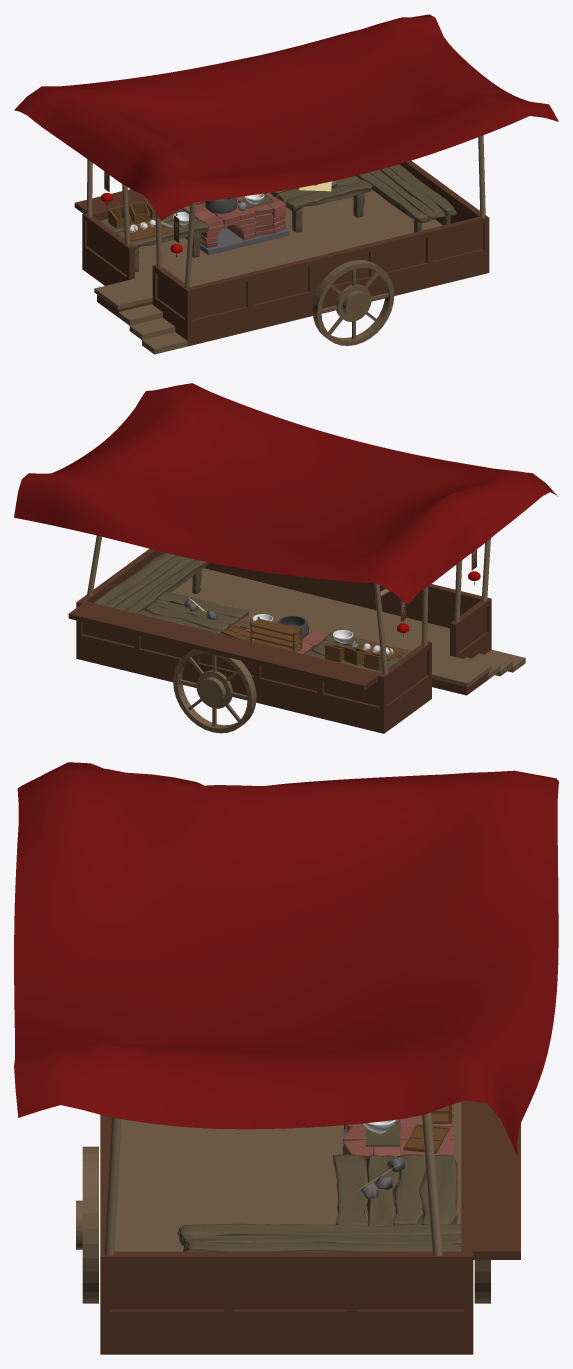
The model's file is EstacionesCocinaV1.fbx.
3 renders of one model, top to bottom at view 1: azimuth 30°, elevation 25°; view 2: azimuth 150°, elevation 25°; view 3: azimuth 270°, elevation 25°, orthographic. The views are drawn at different scales.
Visible parts, largest first — view 1: Lona, Carrito, Piso, Ruedas, BaseEscalera, MesaEmplatado, ESTUFAV2.002, PatasMesaEx, Mesa, PISO, Soporte4, Soporte5 (+1 smaller); view 2: Lona, Carrito, Piso, Ruedas, MesaEmplatado, BaseEscalera, PatasMesaEx, ESPECIAS1, Mesa, Soporte1, ESTUFAV2.002; view 3: Lona, Carrito, Piso, MesaEmplatado, PatasMesaEx, Ruedas, ESTUFAV2.002, Soporte6, Soporte5, ESPECIAS2.
Part boxes in pixels (<box>): Lona: <box>14,14,558,220</box>; Carrito: <box>74,160,489,346</box>; Piso: <box>135,189,442,290</box>; Ruedas: <box>312,260,394,345</box>; BaseEscalera: <box>94,278,187,354</box>; MesaEmplatado: <box>356,164,456,232</box>; ESTUFAV2.002: <box>186,192,286,247</box>; PatasMesaEx: <box>270,176,372,232</box>; Mesa: <box>100,209,208,249</box>; PISO: <box>184,228,289,255</box>; Soporte4: <box>184,202,195,288</box>; Soporte5: <box>478,135,485,217</box>; Lona: <box>14,383,557,604</box>; Carrito: <box>68,548,491,733</box>; Piso: <box>170,568,449,668</box>; Ruedas: <box>173,649,256,733</box>; MesaEmplatado: <box>94,552,208,613</box>; BaseEscalera: <box>432,649,525,695</box>; PatasMesaEx: <box>136,592,248,633</box>; ESPECIAS1: <box>250,616,302,652</box>; Mesa: <box>303,632,411,673</box>; Soporte1: <box>374,583,388,674</box>; ESTUFAV2.002: <box>221,616,325,653</box>; Lona: <box>14,762,558,1155</box>; Carrito: <box>100,1100,520,1354</box>; Piso: <box>114,1101,461,1251</box>; MesaEmplatado: <box>177,1223,461,1251</box>; PatasMesaEx: <box>333,1154,457,1225</box>; Ruedas: <box>76,1146,490,1303</box>; ESTUFAV2.002: <box>343,1104,453,1199</box>; Soporte6: <box>422,1112,442,1256</box>; Soporte5: <box>104,1117,121,1255</box>; ESPECIAS2: <box>403,1124,449,1153</box>.
Bounding box in the file's own units: 10.36 × 6.93 × 5.29.
